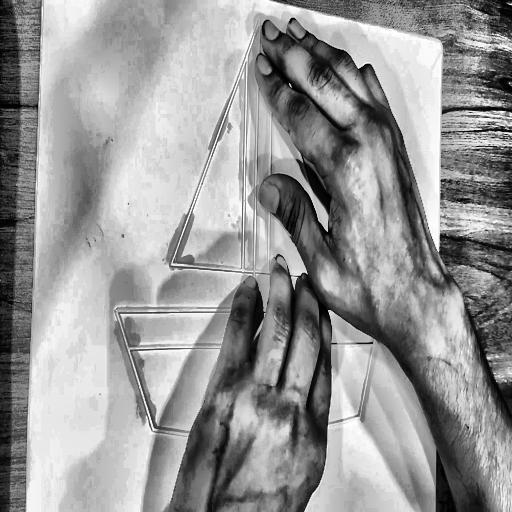boat: (109, 0, 392, 449)
top_right: (437, 35, 448, 53)
